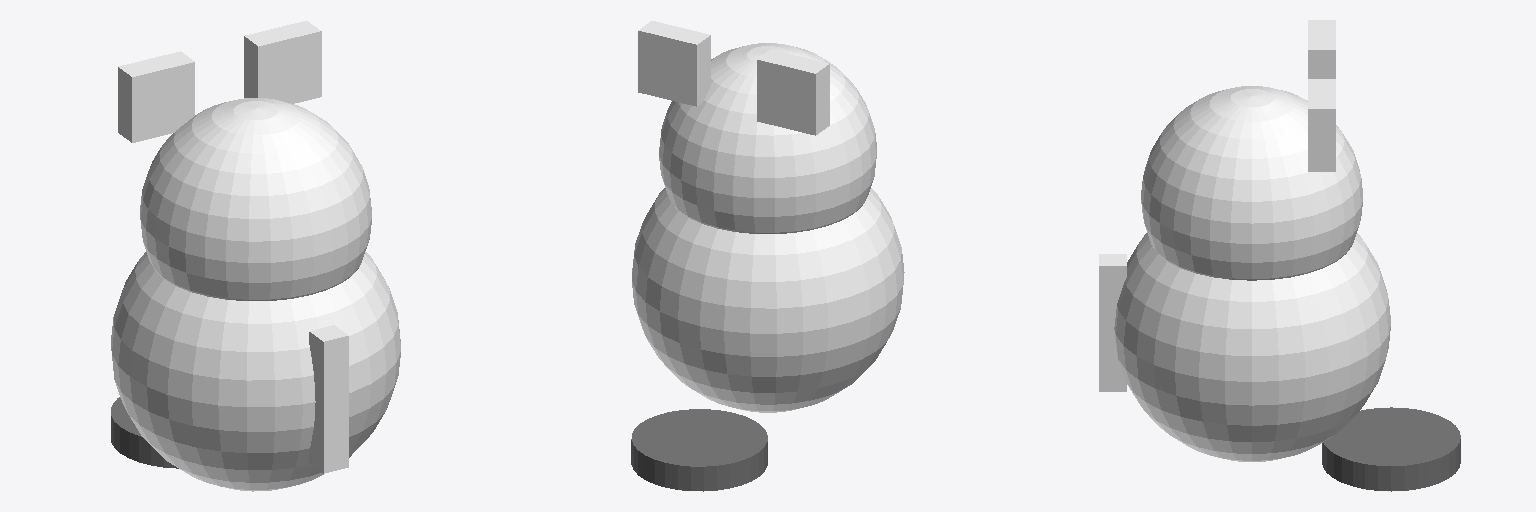
robot.urdf — expressive_robot:
<?xml version="1.0" ?>
<!-- =================================================================================== -->
<!-- |    This document was autogenerated by xacro from [local-path]/ws_moveit/src/my_robot_description/urdf/expressive_robot.urdf.xacro | -->
<!-- |    EDITING THIS FILE BY HAND IS NOT RECOMMENDED                                 | -->
<!-- =================================================================================== -->
<robot name="expressive_robot">
  <!-- Main body -->
  <link name="base_link">
    <visual>
      <geometry>
        <sphere radius="0.1"/>
      </geometry>
      <material name="white">
        <color rgba="1 1 1 1"/>
      </material>
    </visual>
  </link>
  <!-- Omni-directional wheels -->
  <link name="wheel_front">
    <visual>
      <geometry>
        <cylinder length="0.02" radius="0.05"/>
      </geometry>
      <material name="gray">
        <color rgba="0.5 0.5 0.5 1"/>
      </material>
    </visual>
  </link>
  <joint name="wheel_front_joint" type="continuous">
    <parent link="base_link"/>
    <child link="wheel_front"/>
    <origin rpy="0 0 0" xyz="0 0.1 -0.1"/>
    <axis xyz="0 0 1"/>
  </joint>
  <!-- Repeat for other omni-directional wheels -->
  <!-- Head with 360° turn capability -->
  <joint name="head_joint" type="continuous">
    <parent link="base_link"/>
    <child link="head"/>
    <origin rpy="0 0 0" xyz="0 0 0.1"/>
    <axis xyz="0 0 1"/>
  </joint>
  <link name="head">
    <visual>
      <geometry>
        <sphere radius="0.08"/>
      </geometry>
      <material name="white">
        <color rgba="1 1 1 1"/>
      </material>
    </visual>
  </link>
  <!-- Left ear -->
  <joint name="left_ear_joint" type="revolute">
    <parent link="head"/>
    <child link="left_ear"/>
    <origin rpy="0 0 0" xyz="0.05 0.05 0.08"/>
    <axis xyz="0 1 0"/>
    <limit effort="0.1" lower="-1.57" upper="1.57" velocity="1.0"/>
  </joint>
  <link name="left_ear">
    <visual>
      <geometry>
        <box size="0.05 0.02 0.05"/>
      </geometry>
      <material name="white">
        <color rgba="1 1 1 1"/>
      </material>
    </visual>
  </link>
  <!-- Right ear -->
  <joint name="right_ear_joint" type="revolute">
    <parent link="head"/>
    <child link="right_ear"/>
    <origin rpy="0 0 0" xyz="-0.05 0.05 0.08"/>
    <axis xyz="0 1 0"/>
    <limit effort="0.1" lower="-1.57" upper="1.57" velocity="1.0"/>
  </joint>
  <link name="right_ear">
    <visual>
      <geometry>
        <box size="0.05 0.02 0.05"/>
      </geometry>
      <material name="white">
        <color rgba="1 1 1 1"/>
      </material>
    </visual>
  </link>
  <!-- Tail -->
  <joint name="tail_joint" type="revolute">
    <parent link="base_link"/>
    <child link="tail"/>
    <origin rpy="0 0 0" xyz="0 -0.1 0"/>
    <axis xyz="0 1 0"/>
    <limit effort="0.1" lower="-1.57" upper="1.57" velocity="1.0"/>
  </joint>
  <link name="tail">
    <visual>
      <geometry>
        <box size="0.02 0.02 0.1"/>
      </geometry>
      <material name="white">
        <color rgba="1 1 1 1"/>
      </material>
    </visual>
  </link>
</robot>

--- Render facts (derived) ---
The picture shows the robot from 3 angles, left to right: view 1: azimuth 30°, elevation 25°; view 2: azimuth 150°, elevation 25°; view 3: azimuth 270°, elevation 25°; orthographic projection.
Model expressive_robot with 6 links and 5 joints (3 revolute, 2 continuous), rooted at base_link, posed every joint at zero.
Visible links, largest first — view 1: base_link, head, right_ear, left_ear, tail, wheel_front; view 2: base_link, head, wheel_front, right_ear, left_ear; view 3: base_link, head, wheel_front, tail, left_ear, right_ear.
Link boxes in pixels (box(x1,y1,x2,y2)): base_link: box(111, 251, 400, 491); head: box(140, 98, 371, 300); right_ear: box(118, 51, 194, 142); left_ear: box(244, 21, 321, 103); tail: box(309, 325, 348, 473); wheel_front: box(111, 397, 178, 468); base_link: box(632, 188, 904, 412); head: box(659, 43, 876, 233); wheel_front: box(631, 409, 767, 491); right_ear: box(757, 49, 829, 135); left_ear: box(638, 21, 710, 106); base_link: box(1114, 233, 1390, 461); head: box(1141, 86, 1362, 280); wheel_front: box(1322, 407, 1460, 491); tail: box(1099, 254, 1126, 391); left_ear: box(1308, 79, 1335, 171); right_ear: box(1308, 20, 1335, 78).
Size in the robot's own frame: 0.2 by 0.26 by 0.315 metres.
Geometry: primitives only (box / cylinder / sphere), no mesh files.